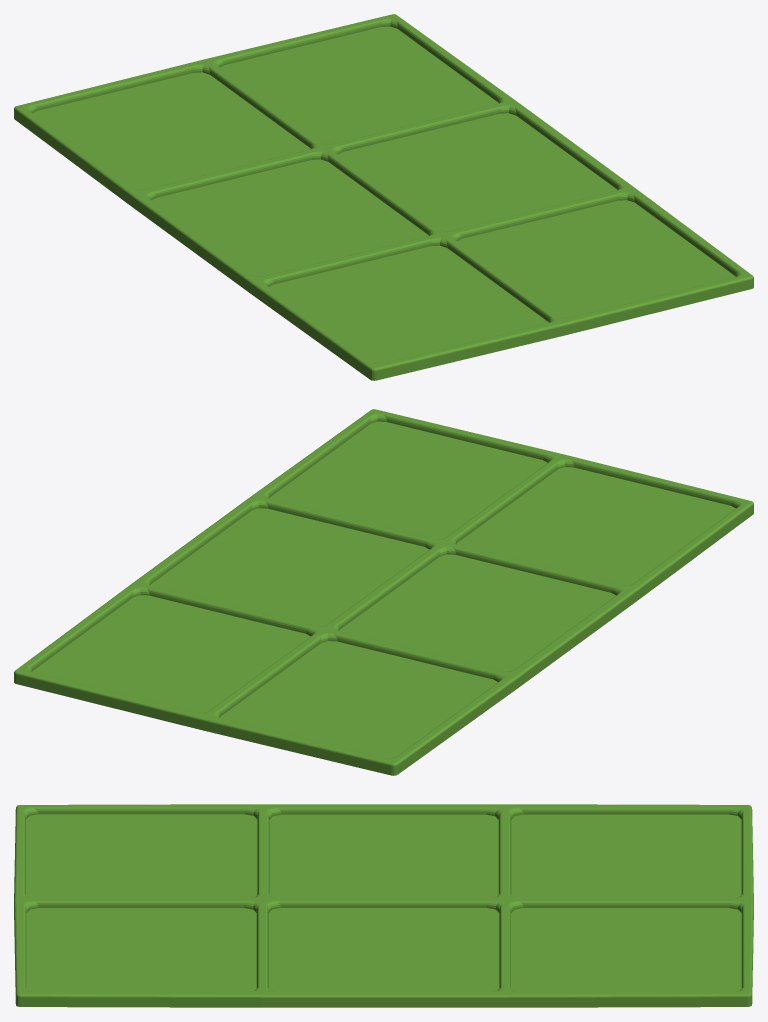
File: plano_final_prueba_prueba.gltf
3 views of the same model, one above another, from view 1: azimuth 30°, elevation 25°; view 2: azimuth 150°, elevation 25°; view 3: azimuth 270°, elevation 25° (orthographic). The views are drawn at different scales.
Visible parts, largest first — view 1: Cube, Cube.001, Cube.005, Cube.004, Cube.006, Cube.003, Cube.002; view 2: Cube, Cube.001, Cube.005, Cube.004, Cube.003, Cube.006, Cube.002; view 3: Cube, Cube.001, Cube.005, Cube.004, Cube.006, Cube.003, Cube.002.
Boxes of the visible parts, x1,y1,x2,y2 form: Cube: (14,14,753,380); Cube.001: (269,245,548,363); Cube.005: (338,113,617,230); Cube.004: (220,26,498,144); Cube.006: (457,200,735,317); Cube.003: (32,72,310,189); Cube.002: (152,159,428,276); Cube: (14,409,753,775); Cube.001: (456,467,735,585); Cube.005: (150,508,429,625); Cube.004: (32,595,310,712); Cube.003: (220,641,497,758); Cube.006: (269,421,547,538); Cube.002: (339,554,615,671); Cube: (14,804,753,1007); Cube.001: (26,814,257,898); Cube.005: (268,908,499,991); Cube.004: (511,908,741,991); Cube.006: (26,908,256,991); Cube.003: (511,814,741,897); Cube.002: (269,814,498,897).
Bounding box in the file's own units: 7.65 × 0.2213 × 12.43.
